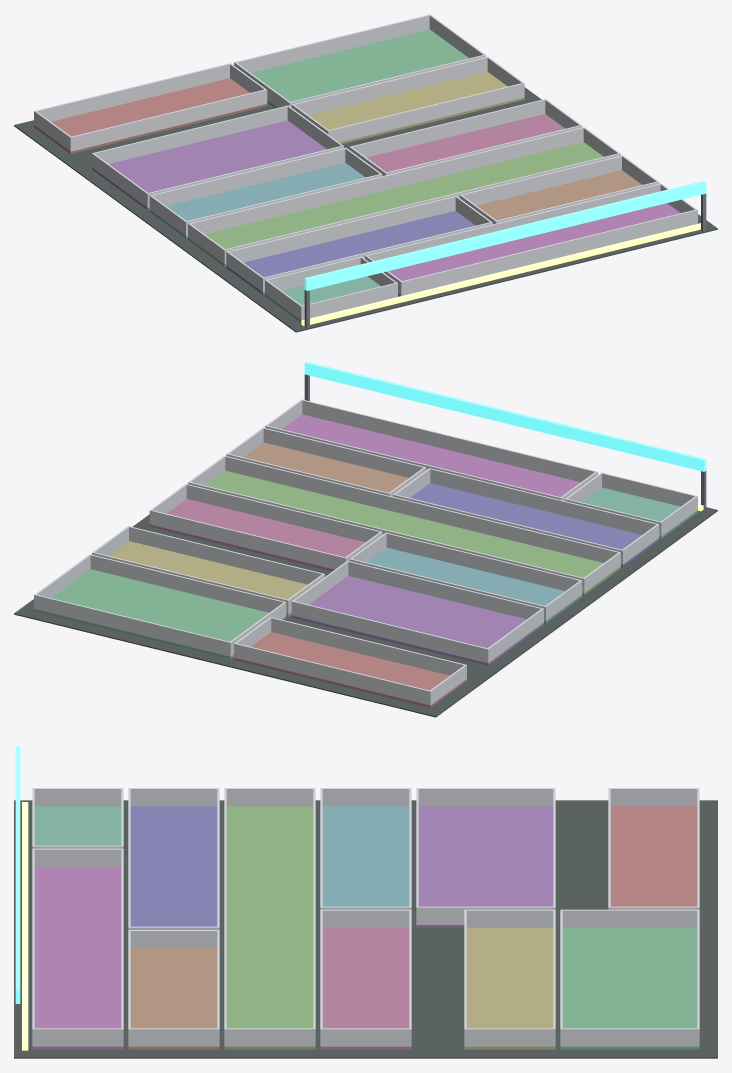
The model's file is hall-elevator.glb.
3 renders of one model, top to bottom at view 1: azimuth 30°, elevation 25°; view 2: azimuth 150°, elevation 25°; view 3: azimuth 270°, elevation 25°, orthographic. The views are drawn at different scales.
Parts seen in each view (by area): view 1: Elevator Constructors; view 2: Elevator Constructors; view 3: Elevator Constructors.
Part boxes in pixels (x1=…): Elevator Constructors: x1=14, y1=14, x2=717, y2=332; Elevator Constructors: x1=14, y1=361, x2=717, y2=717; Elevator Constructors: x1=14, y1=746, x2=717, y2=1058.
Bounding box in the file's own units: 38 × 4.3 × 44.
